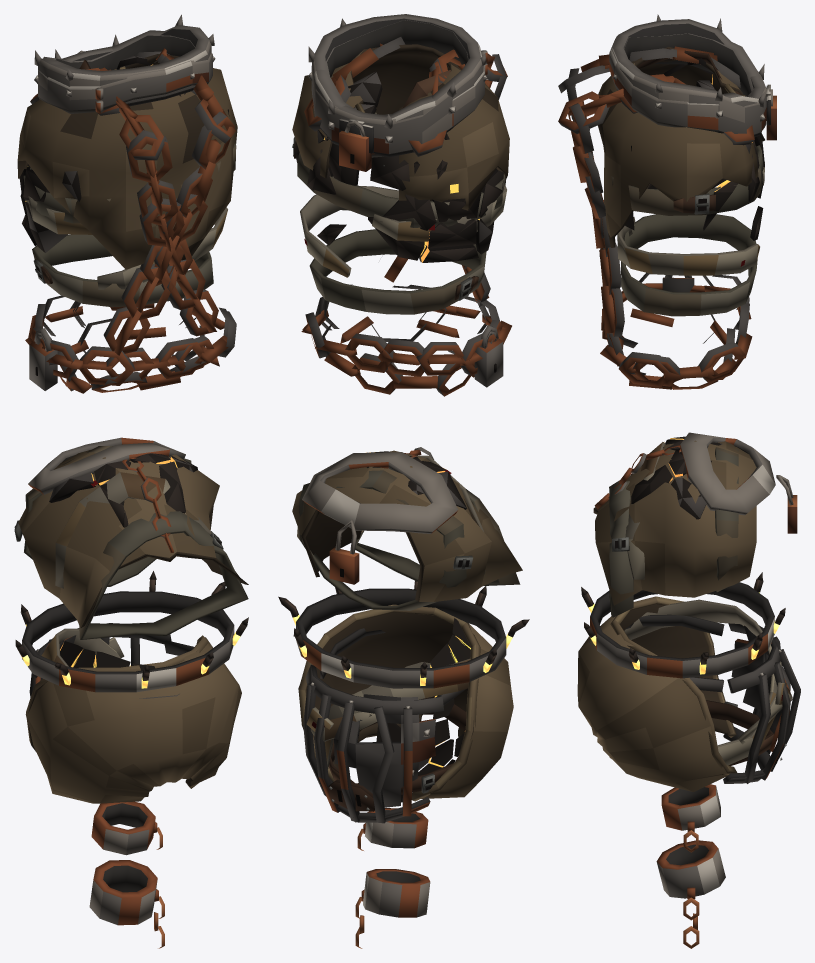
The model's file is markers.glb.
3 views of the same model, side by side, from view 1: azimuth 30°, elevation 25°; view 2: azimuth 150°, elevation 25°; view 3: azimuth 270°, elevation 25° (orthographic). The views are drawn at different scales.
Parts seen in each view (by area): view 1: FrissonMark_Umber_Skull_Detail, FrissonMark_Umber_Shoulders_Detail, FrissonMark_Umber_CrawlerTorso_Detail, FrissonMark_Overlord_Helmet_Detail, FrissonMark_Overlord_Shoulders_Detail, FrissonMark_Overlord_Torso_Detail, FrissonMark_Scarlet_CrawlerTorso_Detail, FrissonMark_Rust_Neck_Detail, FrissonMark_Scarlet_Torso_Detail, FrissonMark_Rust_ArmR_Detail, FrissonMark_Overlord_Neck_Detail, FrissonMark_Rust_CrawlerTorso_Detail (+12 smaller); view 2: FrissonMark_Umber_Skull_Detail, FrissonMark_Umber_Shoulders_Detail, FrissonMark_Umber_CrawlerTorso_Detail, FrissonMark_Charcoal_Shoulders_Detail, FrissonMark_Dread_Face_Detail, FrissonMark_Overlord_Helmet_Detail, FrissonMark_Scarlet_Torso_Detail, FrissonMark_Rust_CrawlerTorso_Detail, FrissonMark_Overlord_Torso_Detail, FrissonMark_Overlord_Neck_Detail, FrissonMark_Rust_Neck_Detail, FrissonMark_Scarlet_CrawlerTorso_Detail (+11 smaller); view 3: FrissonMark_Umber_Skull_Detail, FrissonMark_Umber_CrawlerTorso_Detail, FrissonMark_Umber_Shoulders_Detail, FrissonMark_Scarlet_Torso_Detail, FrissonMark_Rust_Neck_Detail, FrissonMark_Overlord_Helmet_Detail, FrissonMark_Dread_Face_Detail, FrissonMark_Rust_CrawlerTorso_Detail, FrissonMark_Overlord_Torso_Detail, FrissonMark_Overlord_Neck_Detail, FrissonMark_Overlord_Shoulders_Detail, FrissonMark_Scarlet_CrawlerTorso_Detail (+13 smaller).
Part boxes in pixels (left/top/right/bottom): FrissonMark_Umber_Skull_Detail: left=25, top=635, right=241, bottom=803; FrissonMark_Umber_Shoulders_Detail: left=17, top=54, right=237, bottom=269; FrissonMark_Umber_CrawlerTorso_Detail: left=18, top=446, right=248, bottom=627; FrissonMark_Overlord_Helmet_Detail: left=15, top=571, right=248, bottom=692; FrissonMark_Overlord_Shoulders_Detail: left=30, top=48, right=235, bottom=355; FrissonMark_Overlord_Torso_Detail: left=28, top=295, right=236, bottom=393; FrissonMark_Scarlet_CrawlerTorso_Detail: left=14, top=446, right=248, bottom=639; FrissonMark_Rust_Neck_Detail: left=38, top=30, right=212, bottom=113; FrissonMark_Scarlet_Torso_Detail: left=23, top=143, right=236, bottom=307; FrissonMark_Rust_ArmR_Detail: left=89, top=860, right=164, bottom=948; FrissonMark_Overlord_Neck_Detail: left=34, top=14, right=215, bottom=106; FrissonMark_Rust_CrawlerTorso_Detail: left=28, top=437, right=185, bottom=552; FrissonMark_Umber_Skull_Detail: left=298, top=604, right=513, bottom=801; FrissonMark_Umber_Shoulders_Detail: left=292, top=44, right=509, bottom=210; FrissonMark_Umber_CrawlerTorso_Detail: left=292, top=450, right=522, bottom=601; FrissonMark_Charcoal_Shoulders_Detail: left=295, top=71, right=503, bottom=262; FrissonMark_Dread_Face_Detail: left=303, top=628, right=465, bottom=823; FrissonMark_Overlord_Helmet_Detail: left=278, top=581, right=529, bottom=688; FrissonMark_Scarlet_Torso_Detail: left=292, top=112, right=505, bottom=314; FrissonMark_Rust_CrawlerTorso_Detail: left=302, top=447, right=458, bottom=584; FrissonMark_Overlord_Torso_Detail: left=302, top=284, right=511, bottom=396; FrissonMark_Overlord_Neck_Detail: left=308, top=14, right=487, bottom=157; FrissonMark_Rust_Neck_Detail: left=311, top=20, right=487, bottom=171; FrissonMark_Scarlet_CrawlerTorso_Detail: left=297, top=470, right=520, bottom=610; FrissonMark_Umber_Skull_Detail: left=577, top=596, right=737, bottom=791; FrissonMark_Umber_CrawlerTorso_Detail: left=593, top=440, right=756, bottom=605; FrissonMark_Umber_Shoulders_Detail: left=594, top=47, right=764, bottom=247; FrissonMark_Scarlet_Torso_Detail: left=611, top=145, right=763, bottom=316; FrissonMark_Rust_Neck_Detail: left=609, top=33, right=776, bottom=140; FrissonMark_Overlord_Helmet_Detail: left=581, top=572, right=785, bottom=678; FrissonMark_Dread_Face_Detail: left=589, top=614, right=800, bottom=783; FrissonMark_Rust_CrawlerTorso_Detail: left=594, top=432, right=797, bottom=533; FrissonMark_Overlord_Torso_Detail: left=600, top=275, right=752, bottom=389; FrissonMark_Overlord_Neck_Detail: left=610, top=14, right=770, bottom=137; FrissonMark_Overlord_Shoulders_Detail: left=566, top=46, right=754, bottom=333; FrissonMark_Scarlet_CrawlerTorso_Detail: left=609, top=447, right=738, bottom=617.
Size of the model in its own units: 0.5493 by 2.24 by 0.5566.
